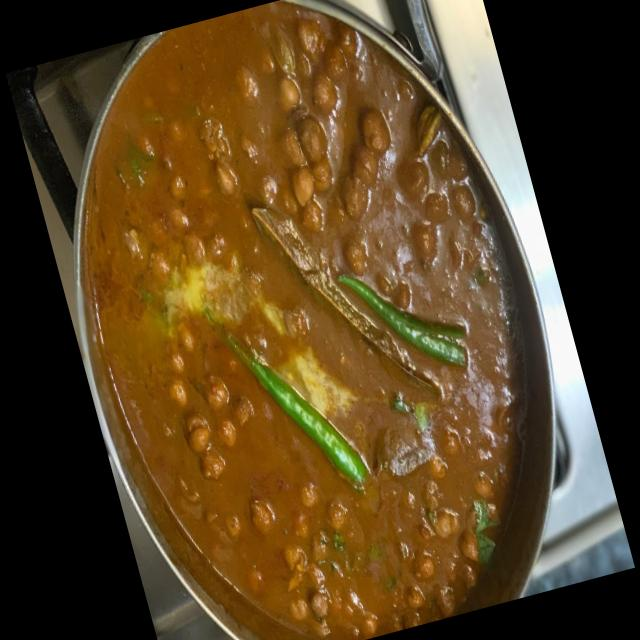Chole: (26, 0, 590, 640)
